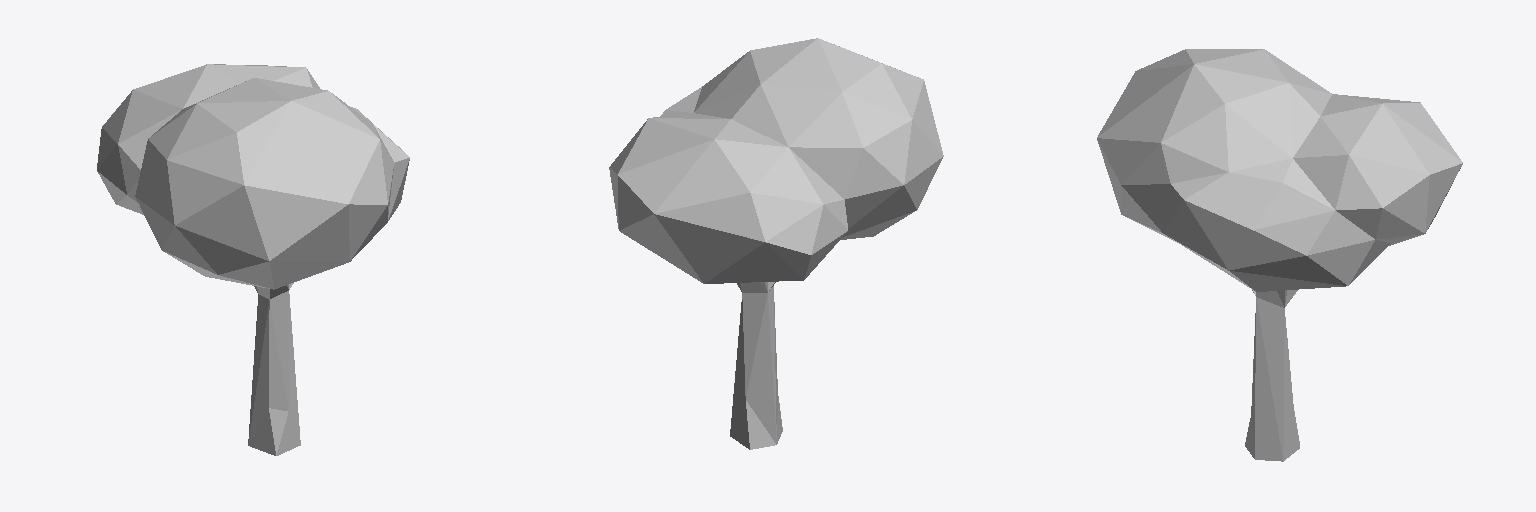
The model's file is BigLowPollyTree.obj.
3 renders of one model, left to right at view 1: azimuth 30°, elevation 25°; view 2: azimuth 150°, elevation 25°; view 3: azimuth 270°, elevation 25°, orthographic.
Visible parts, largest first — view 1: Cylinder.001; view 2: Cylinder.001; view 3: Cylinder.001.
Part boxes in pixels (x1,y1,x2,y2): Cylinder.001: (97, 64, 409, 455); Cylinder.001: (609, 38, 943, 449); Cylinder.001: (1097, 49, 1462, 461).
Bounding box in the file's own units: 7.68 × 10.75 × 9.48.